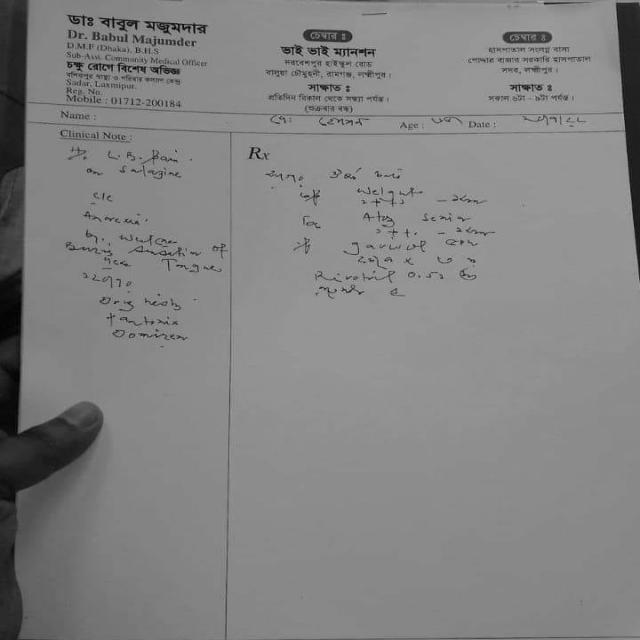ATOZ Senior: (355, 210, 471, 229)
Gavicool: (339, 237, 432, 257), (307, 267, 400, 287)
